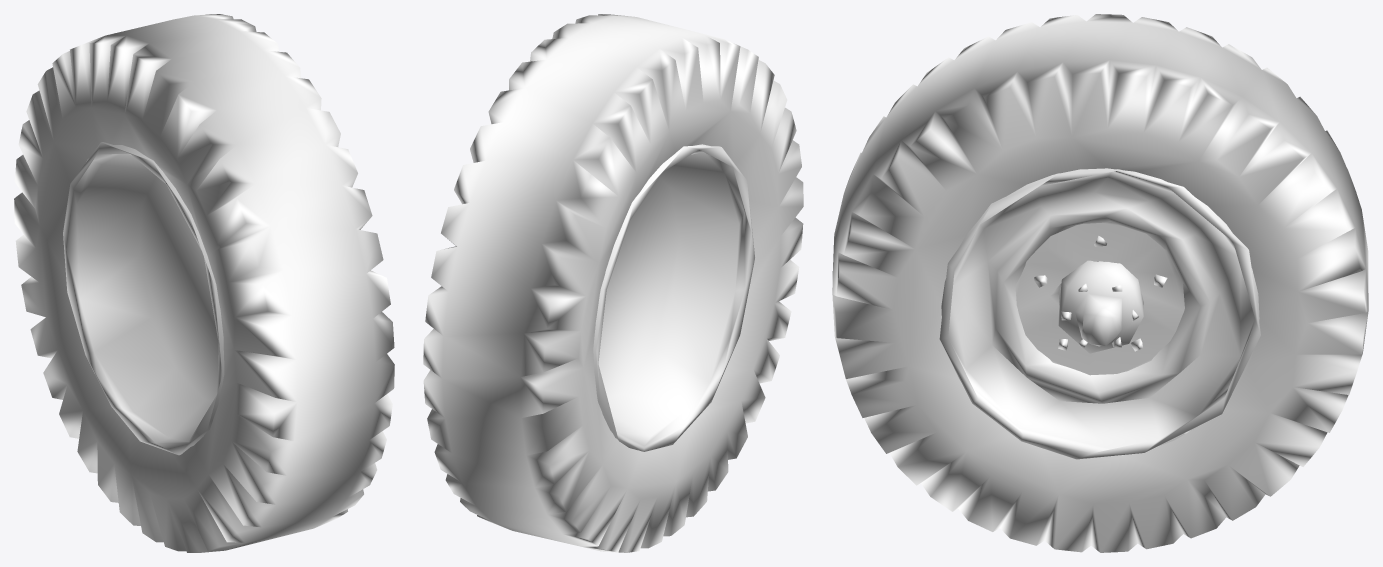
3 views of the same model, side by side, from view 1: azimuth 30°, elevation 25°; view 2: azimuth 150°, elevation 25°; view 3: azimuth 270°, elevation 25° (orthographic).
Bounding box in the file's own units: 0.2645 × 0.741 × 0.7412.
1 material, 1 textured.
